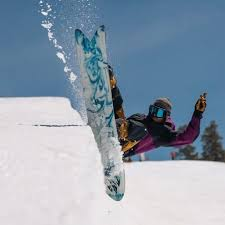snowboard: (73, 24, 126, 200)
